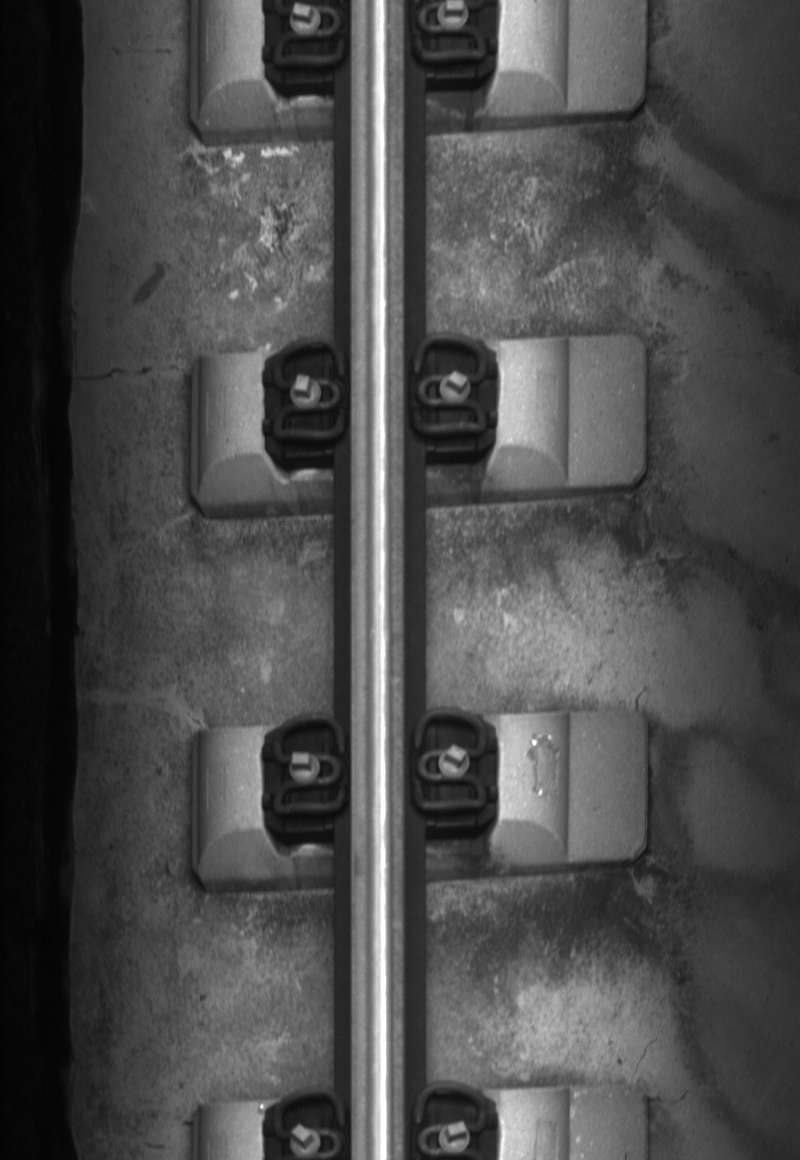l_faster: (268, 335, 349, 447), (267, 711, 349, 821)
r_faster: (408, 331, 494, 442), (410, 706, 491, 818)
